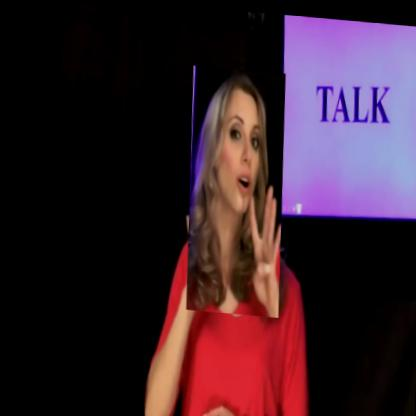Talk: (180, 63, 289, 316)
